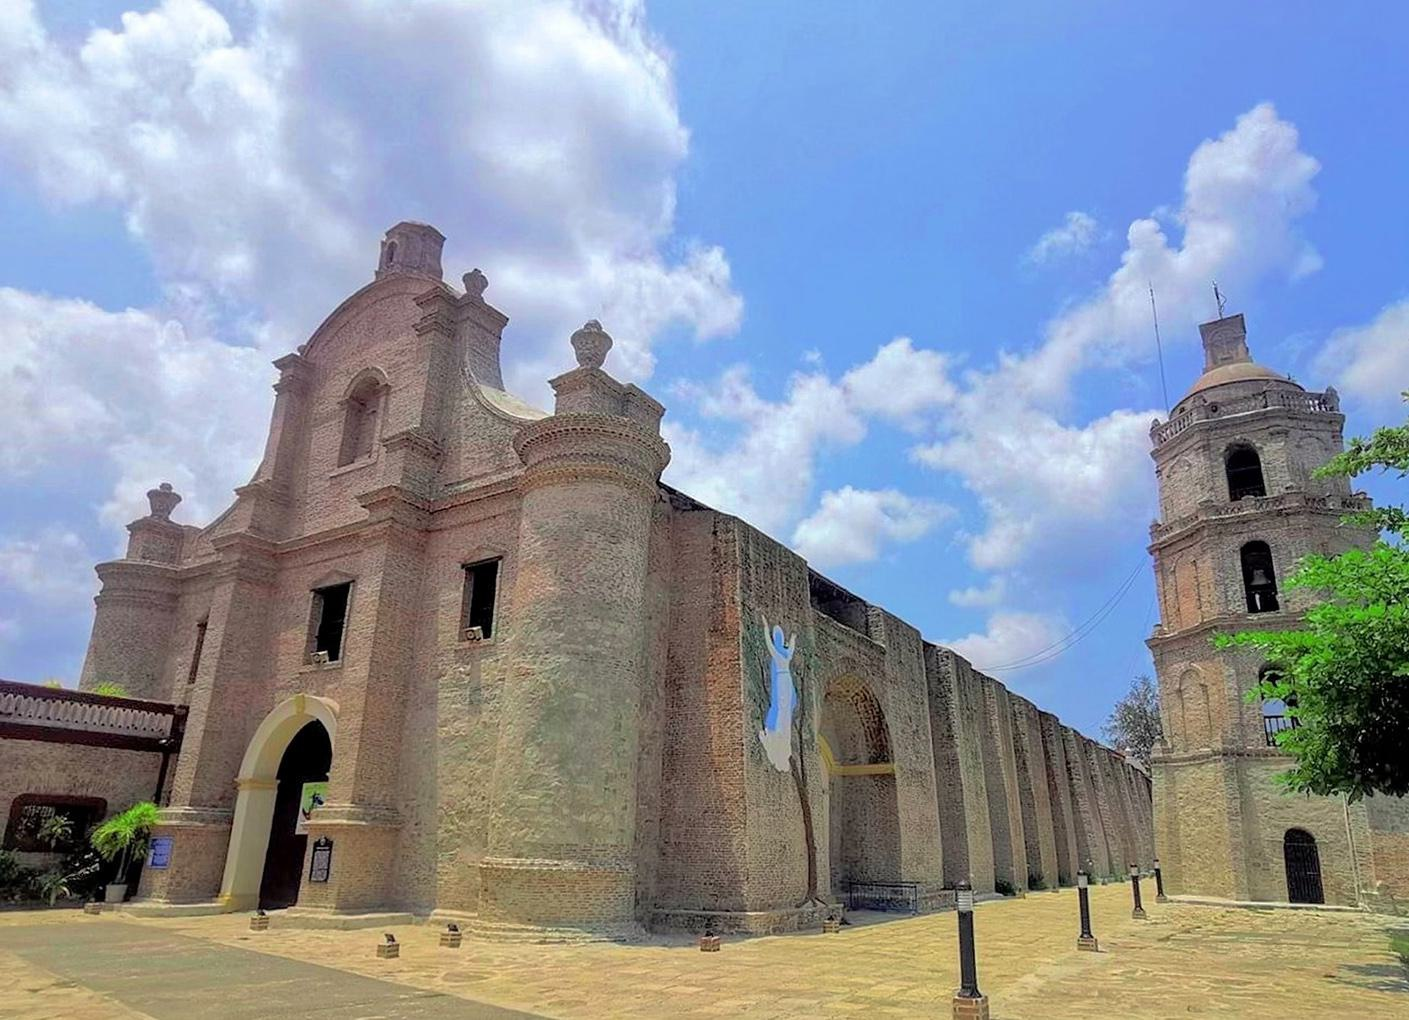santa_maria_church_santa_maria_ilocos_sur: (70, 199, 647, 950)
